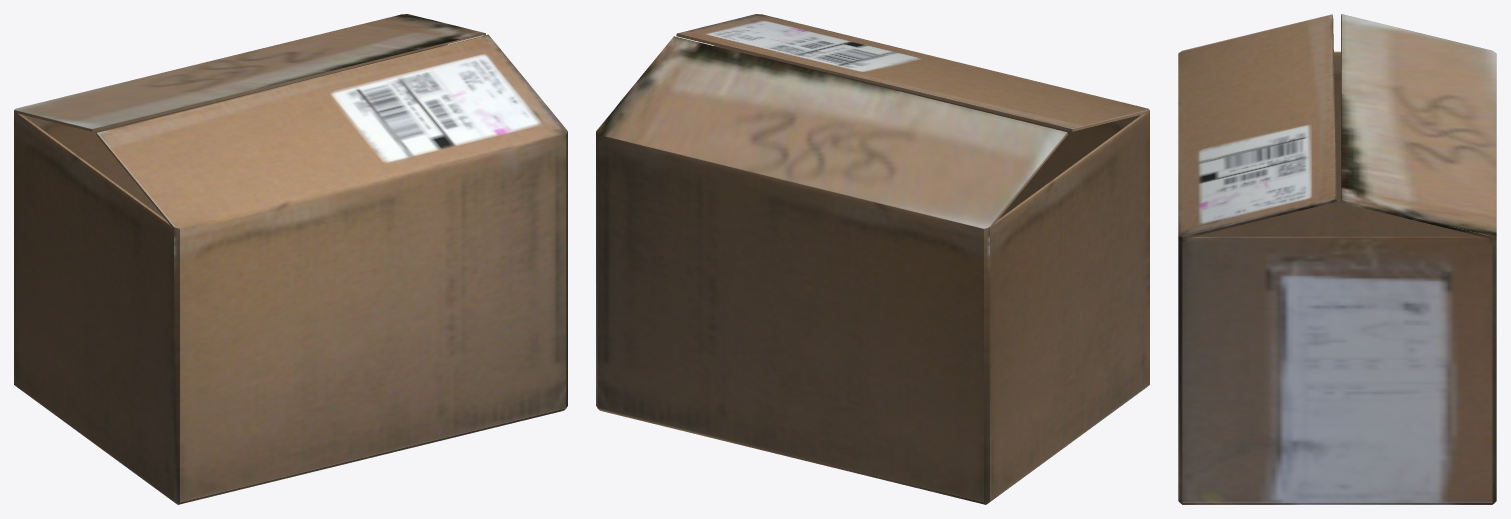
The model's file is CartonBox1.gltf.
The picture shows the model from 3 angles, left to right: view 1: azimuth 30°, elevation 25°; view 2: azimuth 150°, elevation 25°; view 3: azimuth 270°, elevation 25°; orthographic projection. The views are drawn at different scales.
Visible parts, largest first — view 1: node1; view 2: node1; view 3: node1.
Boxes of the visible parts, x1,y1,x2,y2 form: node1: (14, 14, 567, 504); node1: (596, 14, 1149, 504); node1: (1178, 14, 1496, 504).
Bounding box in the file's own units: 0.4743 × 0.3651 × 0.3429.
